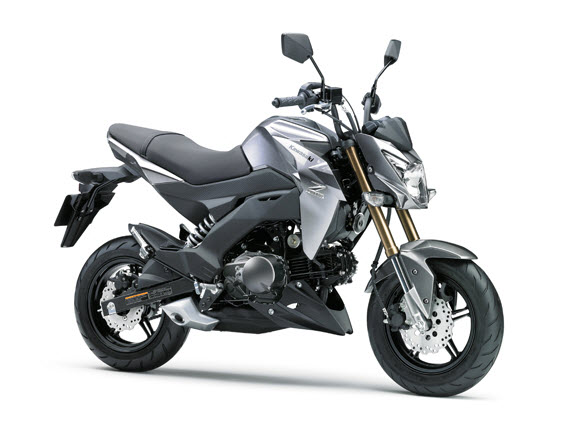motorcycle: (61, 87, 502, 401)
